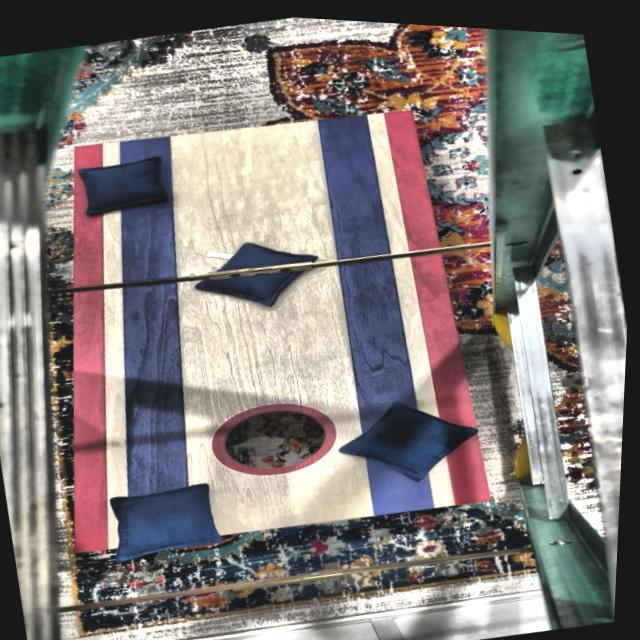blue-bean-bag: (336, 379, 492, 492), (191, 223, 327, 317), (109, 474, 227, 564), (79, 150, 171, 218)
board: (65, 89, 486, 561)
hole: (207, 384, 349, 486)
